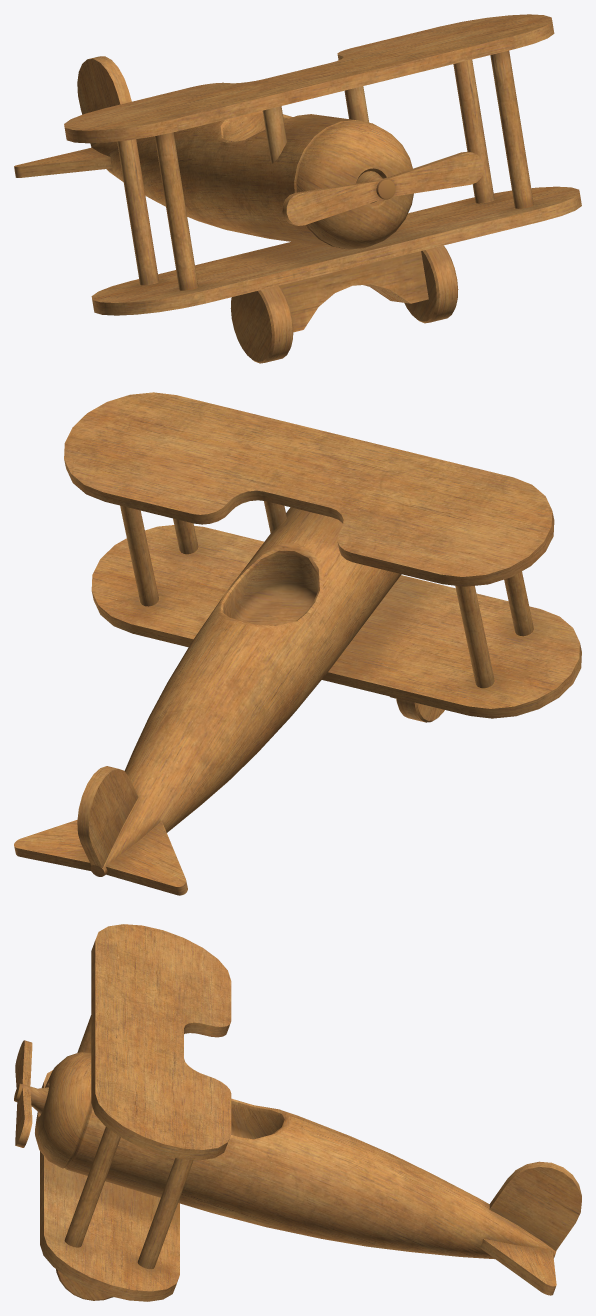
Rendered from airplance.fbx.
3 views of the same model, one above another, from view 1: azimuth 30°, elevation 25°; view 2: azimuth 150°, elevation 25°; view 3: azimuth 270°, elevation 25° (orthographic). The views are drawn at different scales.
Visible parts, largest first — view 1: Cylinder.011, Cube.006, Cube.005, Cylinder.012, Cylinder.013, Cube.009, Cube.010, Cube.007, Cube.008; view 2: Cube.006, Cylinder.011, Cube.005, Cylinder.012, Cube.008, Cube.007, Cylinder.013; view 3: Cylinder.011, Cube.006, Cube.005, Cube.007, Cylinder.012, Cube.008, Cube.009, Cylinder.013.
Part boxes in pixels (left/top/right/bottom): Cylinder.011: left=91, top=110, right=413, bottom=249; Cube.006: left=64, top=14, right=554, bottom=143; Cube.005: left=91, top=186, right=581, bottom=315; Cylinder.012: left=117, top=50, right=533, bottom=290; Cylinder.013: left=230, top=245, right=458, bottom=363; Cube.009: left=282, top=151, right=483, bottom=225; Cube.010: left=279, top=251, right=428, bottom=332; Cube.007: left=77, top=56, right=131, bottom=146; Cube.008: left=14, top=147, right=112, bottom=177; Cube.006: left=64, top=392, right=554, bottom=586; Cylinder.011: left=90, top=507, right=401, bottom=876; Cube.005: left=91, top=525, right=581, bottom=718; Cylinder.012: left=120, top=501, right=533, bottom=688; Cube.008: left=14, top=819, right=187, bottom=895; Cube.007: left=77, top=766, right=138, bottom=868; Cylinder.013: left=396, top=698, right=444, bottom=722; Cylinder.011: left=14, top=1052, right=556, bottom=1259; Cube.006: left=91, top=924, right=231, bottom=1160; Cube.005: left=40, top=1070, right=179, bottom=1301; Cube.007: left=489, top=1161, right=581, bottom=1251; Cylinder.012: left=64, top=1015, right=193, bottom=1269; Cube.008: left=479, top=1239, right=556, bottom=1295; Cube.009: left=15, top=1040, right=32, bottom=1147; Cylinder.013: left=56, top=1269, right=113, bottom=1300.
Bounding box in the file's own units: 1017 × 538 × 1142.
1 material, 1 textured.
